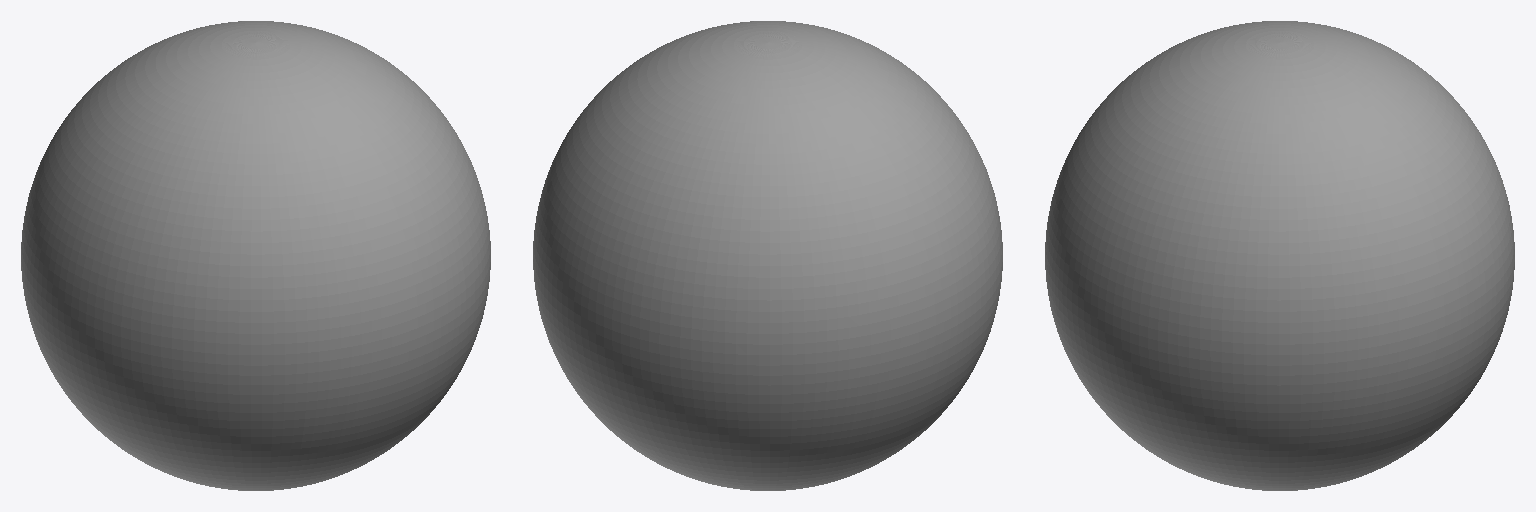
File: Mars.obj
3 renders of one model, left to right at view 1: azimuth 30°, elevation 25°; view 2: azimuth 150°, elevation 25°; view 3: azimuth 270°, elevation 25°, orthographic.
Parts seen in each view (by area): view 1: Mars_Sphere; view 2: Mars_Sphere; view 3: Mars_Sphere.
Boxes of the visible parts, x1,y1,x2,y2 form: Mars_Sphere: [21, 21, 490, 490]; Mars_Sphere: [533, 21, 1002, 490]; Mars_Sphere: [1045, 21, 1514, 490].
Bounding box in the file's own units: 2.02 × 2.03 × 2.02.